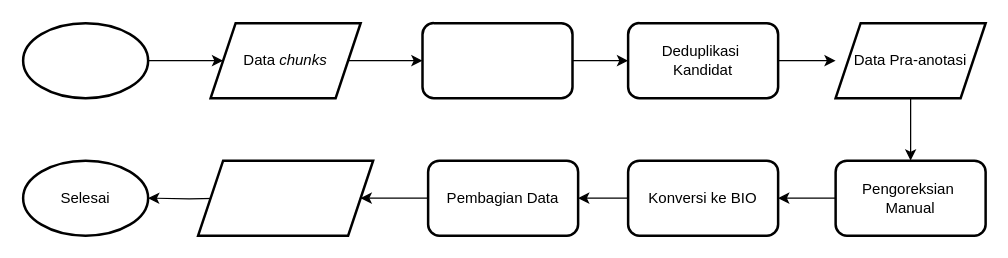
Some shapes in this 1008 by 258 pixel diagram are drawn without their labels. Here are the shapes that lost their labels. From the top down, the centre of each, then its label:
point 85,60: Mulai
point 497,60: Pelabelan Awal (Pencocokan Kamus dan pola regex)
point 285,197: Data Train, Test, dan Unlabelled
